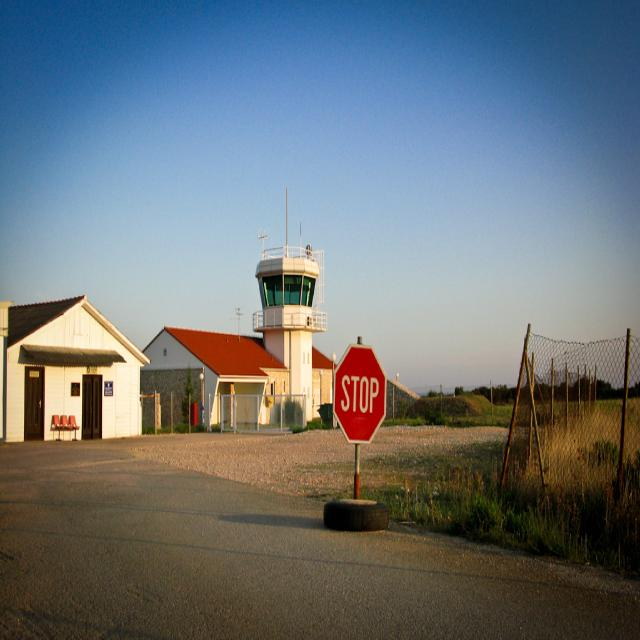Stop-sign: (331, 340, 387, 449)
